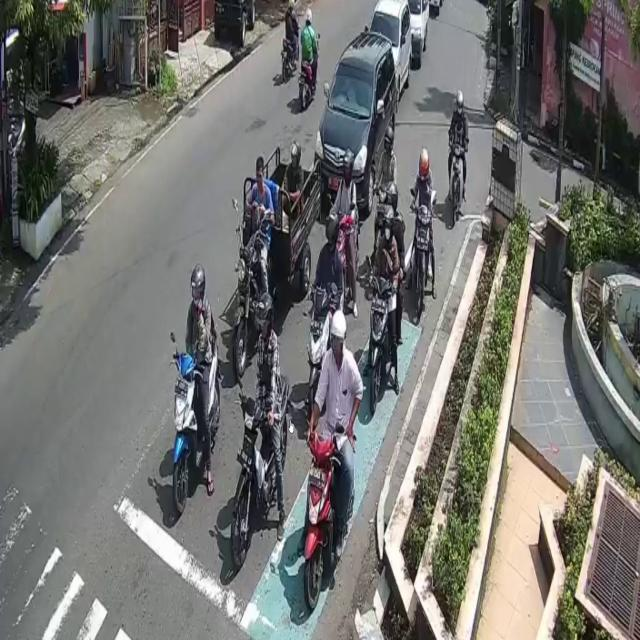bus: (230, 376, 290, 572), (172, 327, 221, 517), (304, 430, 342, 616), (232, 246, 273, 367), (306, 285, 328, 418), (371, 266, 392, 399), (413, 202, 435, 323), (298, 36, 320, 110), (449, 143, 464, 227)
motorcycle: (314, 30, 396, 216), (369, 0, 412, 91)
